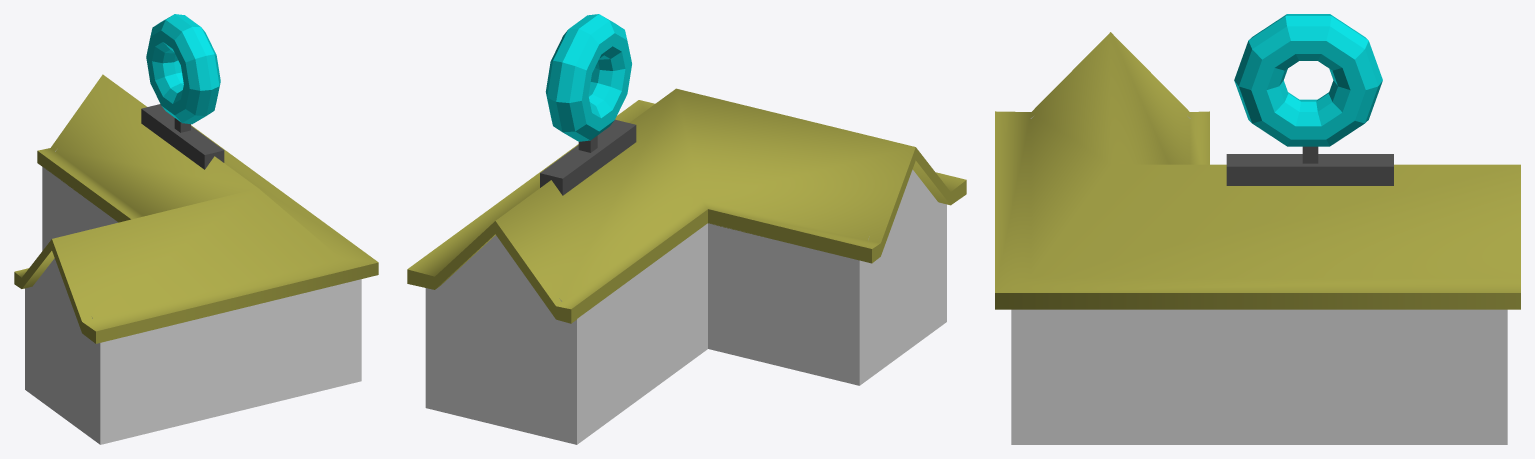
Rendered from Building_DonutShop_Mod_01.fbx.
The picture shows the model from 3 angles, left to right: view 1: azimuth 30°, elevation 25°; view 2: azimuth 150°, elevation 25°; view 3: azimuth 270°, elevation 25°; orthographic projection. The views are drawn at different scales.
Visible parts, largest first — view 1: Buyilding, Donut, Stand; view 2: Buyilding, Donut, Stand; view 3: Buyilding, Donut, Stand.
Part boxes in pixels (x1,y1,x2,y2): Buyilding: [14, 74, 378, 444]; Donut: [146, 14, 220, 124]; Stand: [141, 104, 224, 169]; Buyilding: [407, 88, 966, 444]; Donut: [545, 14, 631, 141]; Stand: [540, 119, 636, 195]; Buyilding: [995, 32, 1520, 444]; Donut: [1234, 14, 1382, 146]; Stand: [1226, 146, 1393, 185].
Size of the model in its own units: 8.66 by 8.6 by 10.6.
